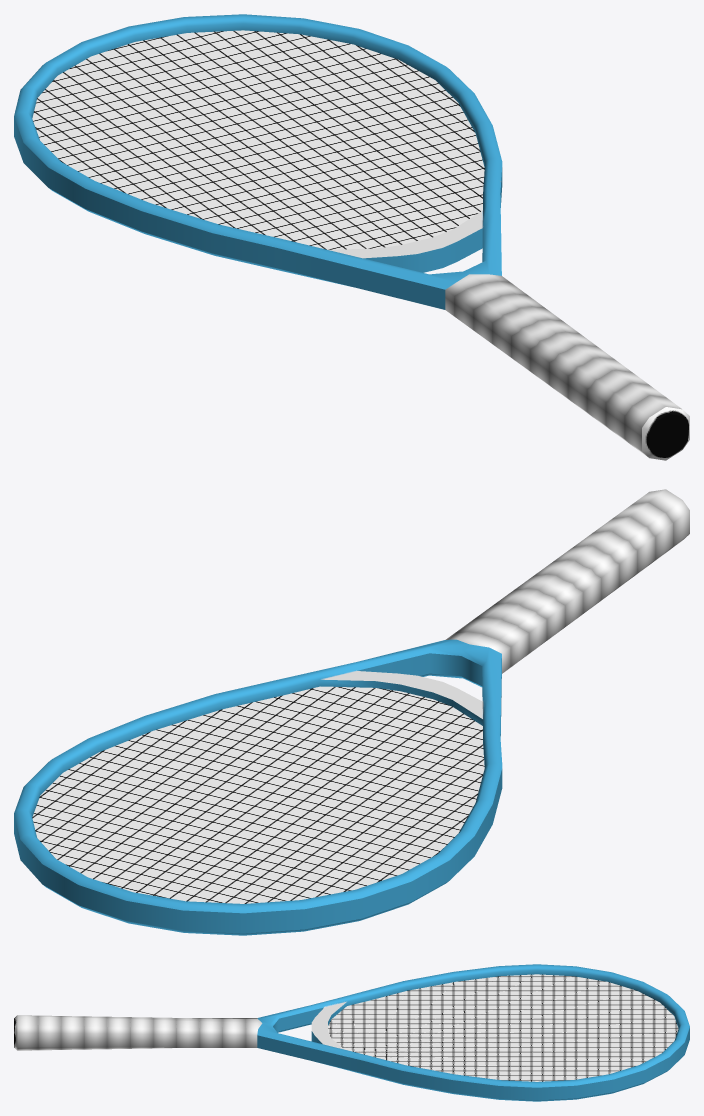
The model's file is Racket.fbx.
The picture shows the model from 3 angles, top to bottom: view 1: azimuth 30°, elevation 25°; view 2: azimuth 150°, elevation 25°; view 3: azimuth 270°, elevation 25°; orthographic projection. The views are drawn at different scales.
Parts seen in each view (by area): view 1: RacketNetA, Racket; view 2: RacketNetA, Racket; view 3: RacketNetA, Racket.
Boxes of the visible parts, left/top/right/bottom form: RacketNetA: left=32, top=30, right=484, bottom=249; Racket: left=14, top=14, right=689, bottom=460; RacketNetA: left=32, top=686, right=484, bottom=903; Racket: left=14, top=489, right=689, bottom=935; RacketNetA: left=328, top=974, right=678, bottom=1081; Racket: left=14, top=964, right=689, bottom=1101.
Bounding box in the file's own units: 1.98 × 0.2534 × 4.62.
